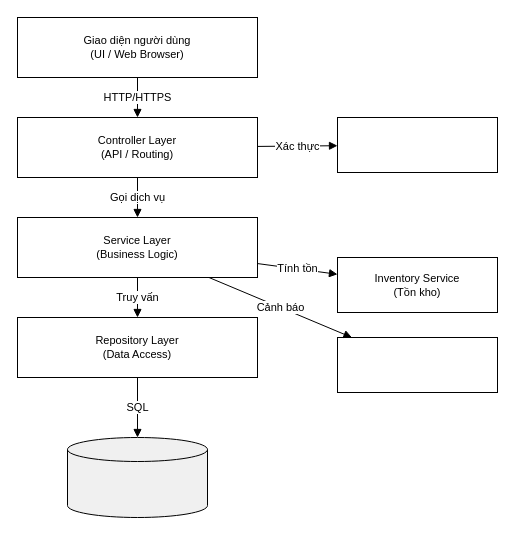
This 515x535 diagram has some shape labels left out. The shapes that lost their labels are listed below. From the top down, each one's centre as x and y in pixels, then its label:
point 417,144: Authentication Service
point 417,364: Notification Service
point 137,477: Cơ sở dữ liệu
